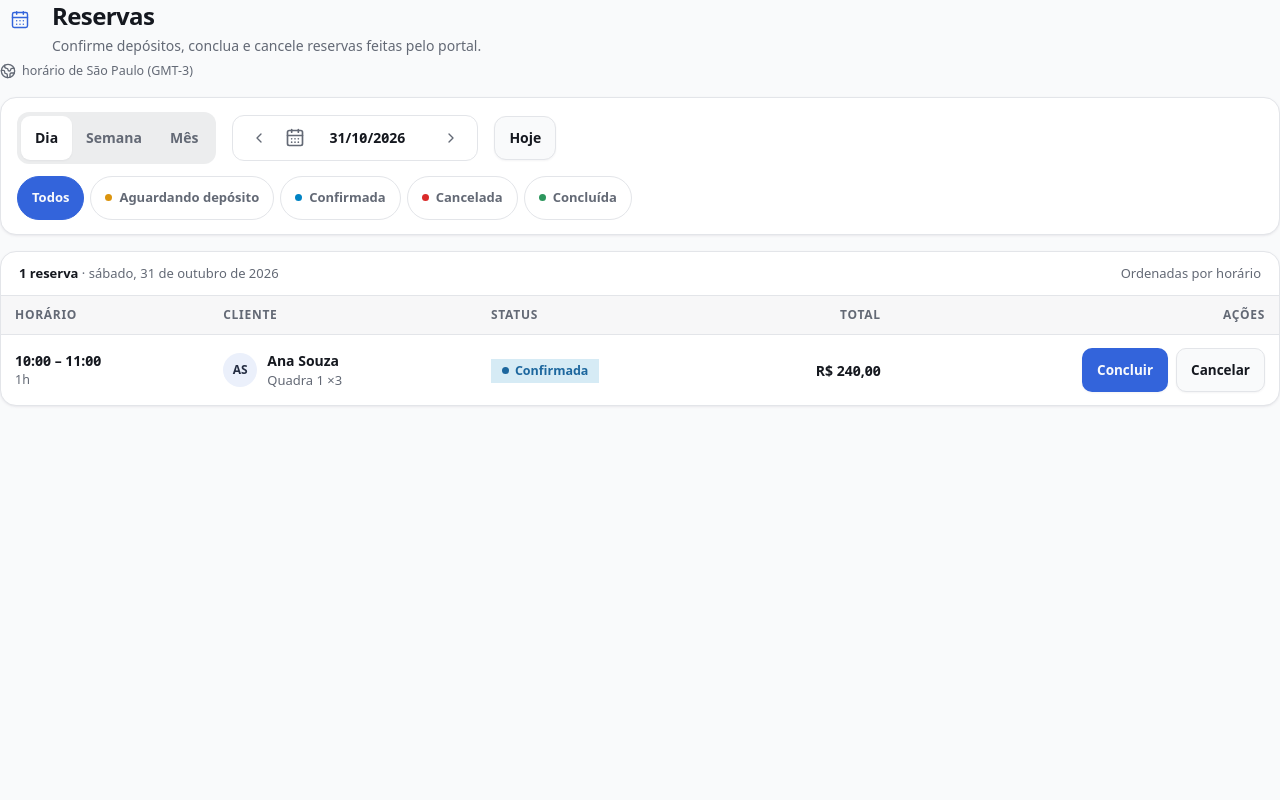
Test: ReservationsPage Cancel confirmation › shows the item quantity and total amount in the cancel confirmation
Expected: the text "Ana Souza" is shown, [267, 351, 339, 370]
Click the button "Cancelar": (1220, 370) [1176, 348, 1265, 392]
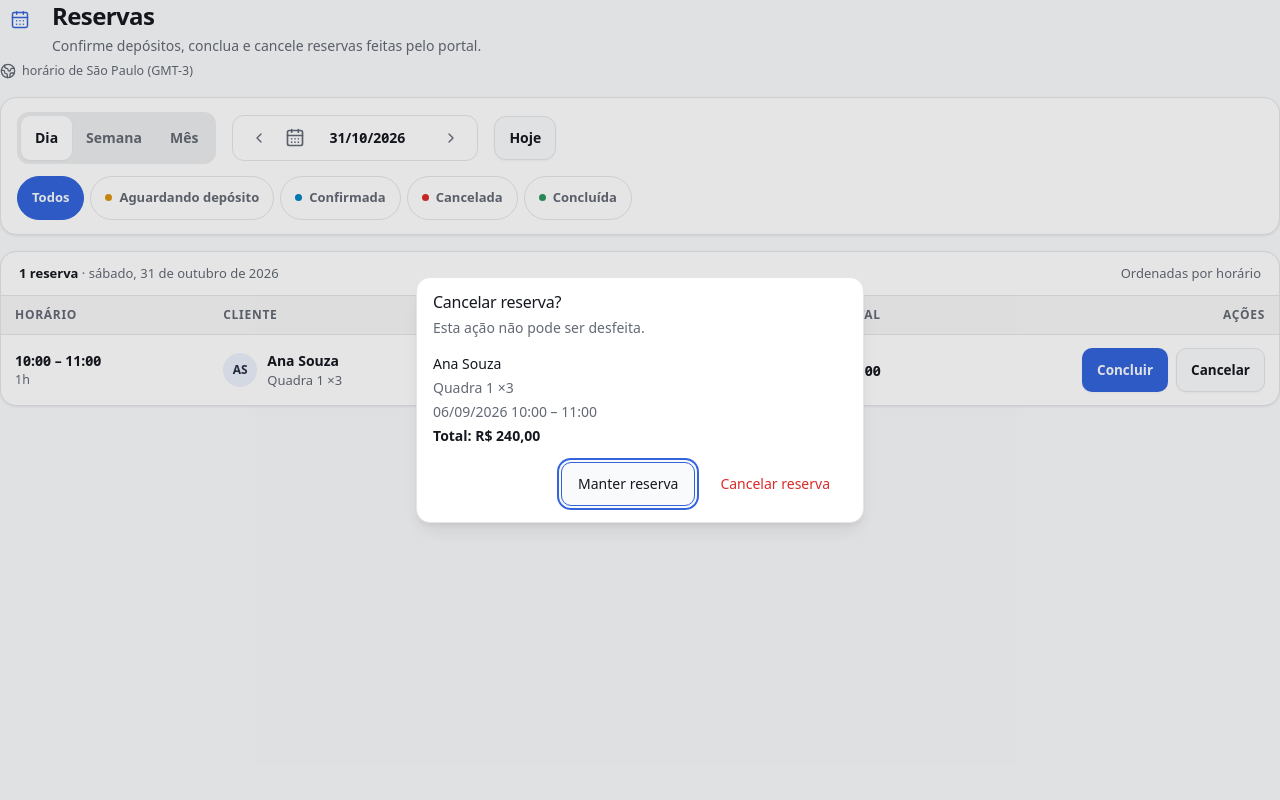
Now the text "Quadra 1 ×3" is shown, box [433, 378, 514, 397]
